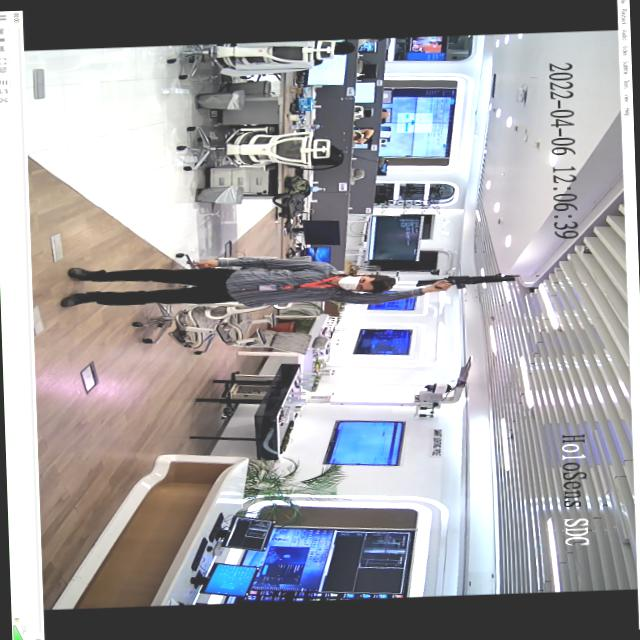long weapon: (408, 268, 527, 297)
